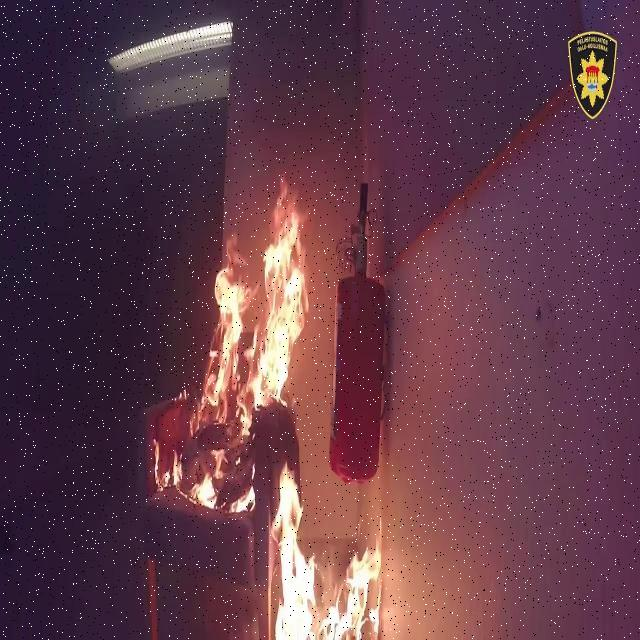fire: (275, 471, 384, 640), (214, 202, 299, 399), (148, 450, 264, 502)
